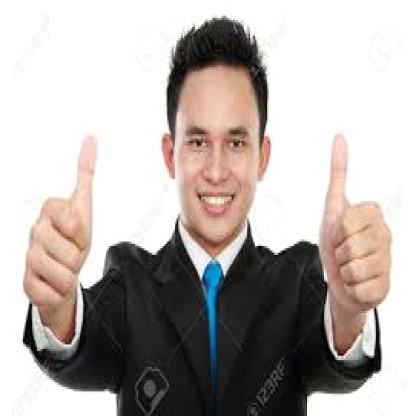Thumbs up: (21, 127, 101, 320), (322, 129, 396, 327)
